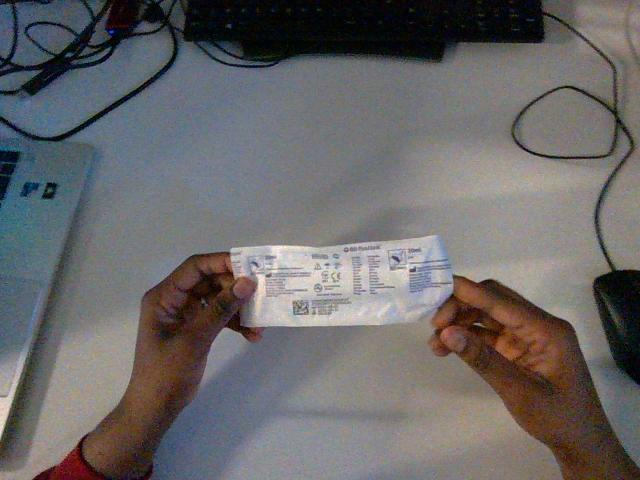syringe: (231, 236, 452, 326)
